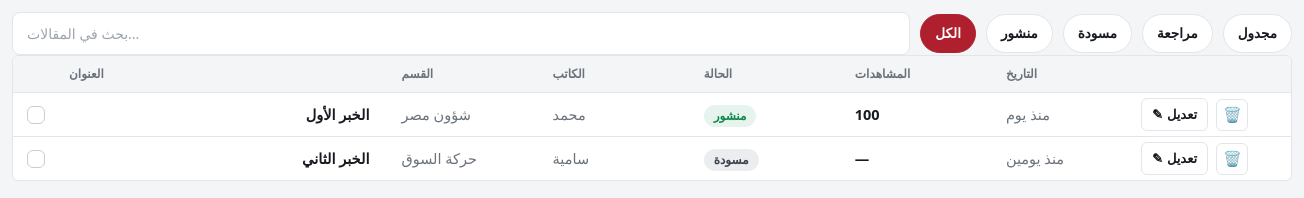
ArticlesTable delete › removes the row once the server confirms the delete
Click the text titled "حذف" in the row of "100" at (1232,114), box [1216,98,1248,130]
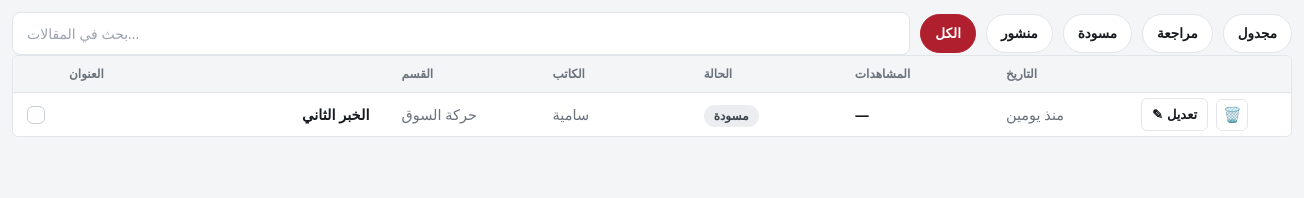
Check: the text "الخبر الأول" is gone
